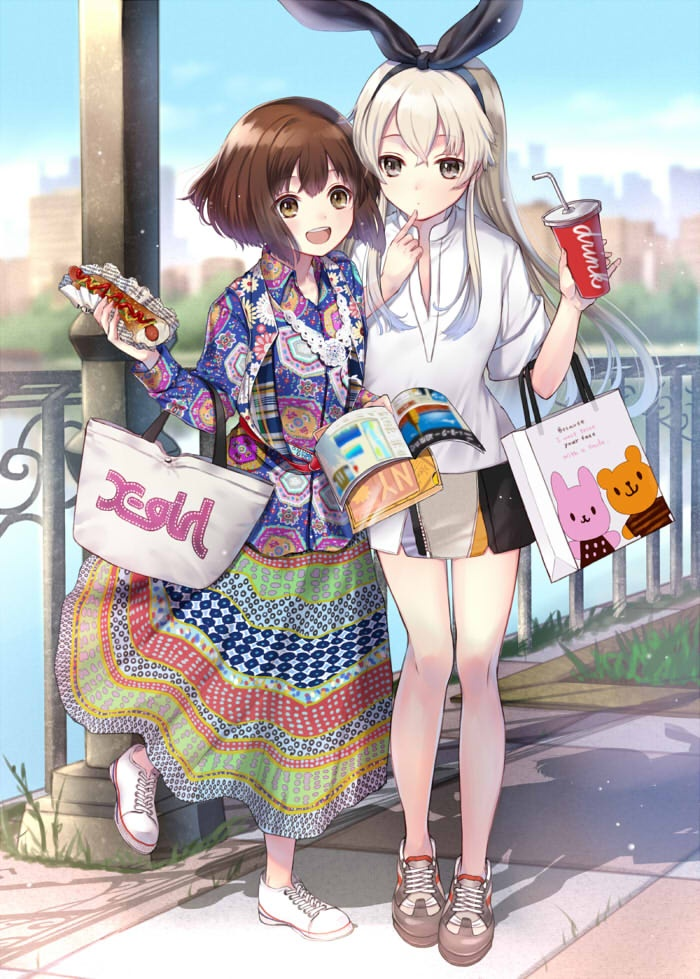纸片人正脸: (194, 93, 374, 264), (346, 37, 503, 230)
